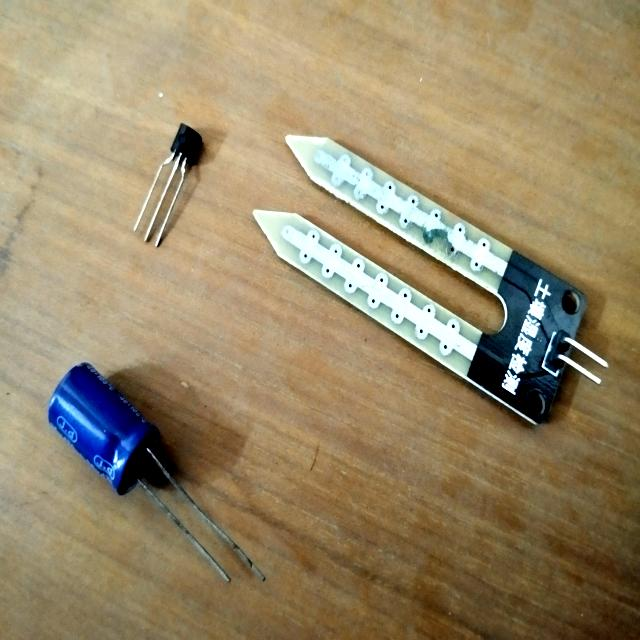capacitor: (48, 365, 202, 504)
